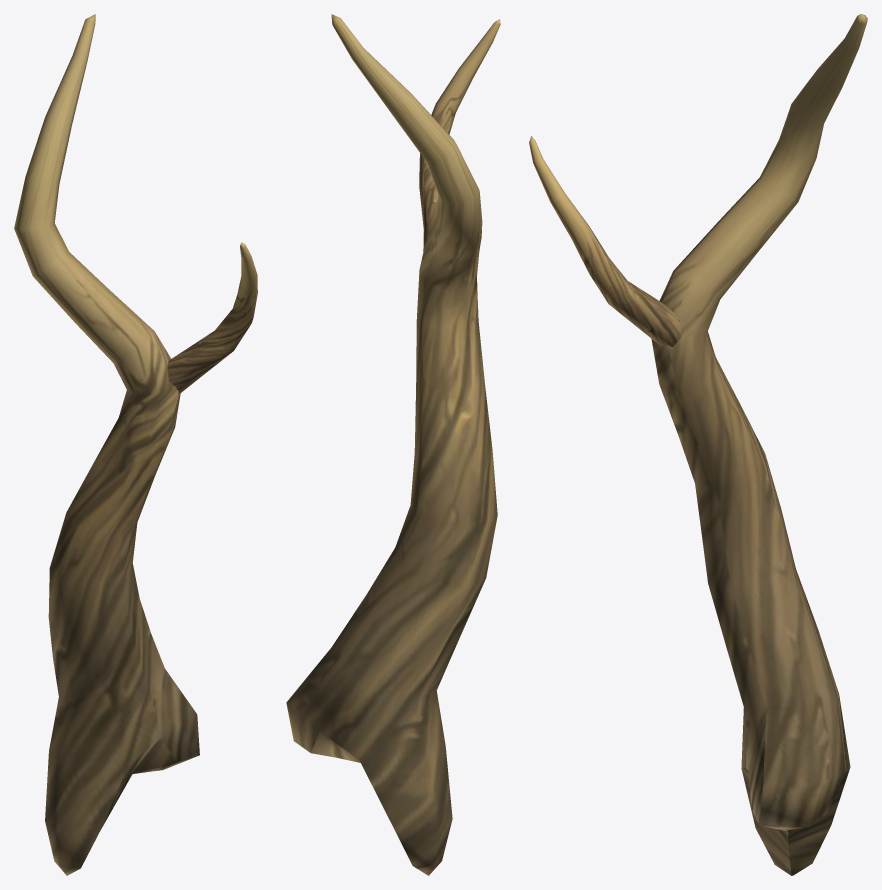
The model's file is DE_Tree_01.fbx.
The picture shows the model from 3 angles, left to right: view 1: azimuth 30°, elevation 25°; view 2: azimuth 150°, elevation 25°; view 3: azimuth 270°, elevation 25°; orthographic projection. The views are drawn at different scales.
Visible parts, largest first — view 1: DE_Tree_01; view 2: DE_Tree_01; view 3: DE_Tree_01.
Part boxes in pixels (x1,y1,x2,y2): DE_Tree_01: (14,14,257,875); DE_Tree_01: (286,14,500,875); DE_Tree_01: (529,14,867,875).
Bounding box in the file's own units: 1.47 × 6.85 × 2.36.
